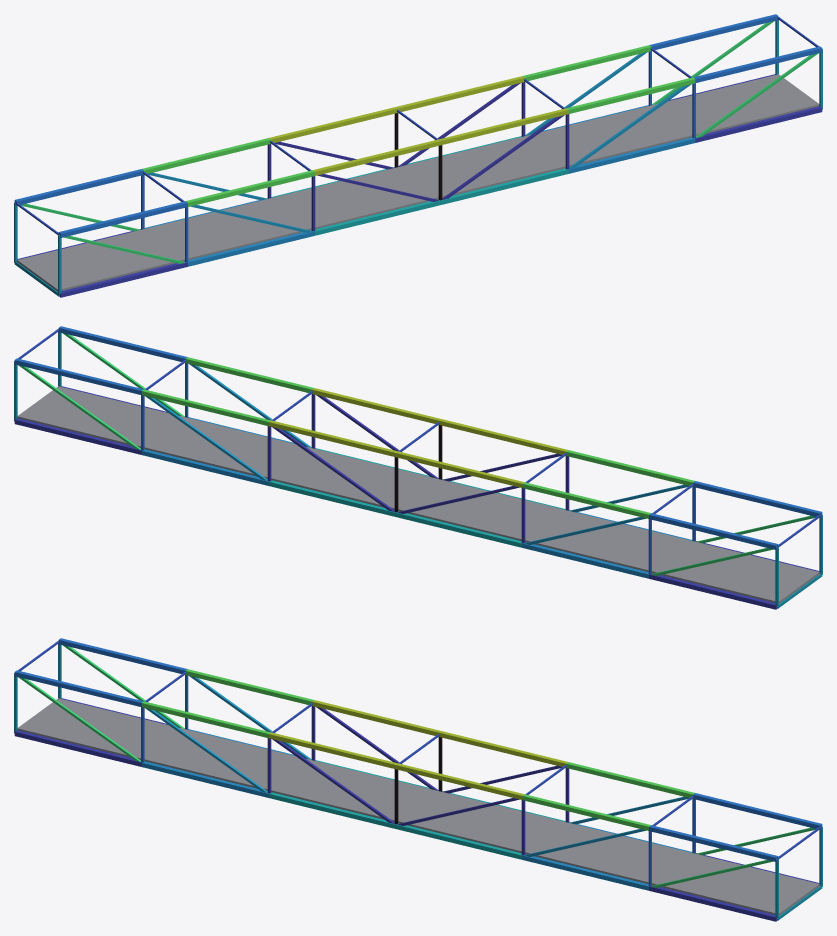
Rendered from 30_2.25_6_HEA240.glb.
3 views of the same model, one above another, from view 1: azimuth 30°, elevation 25°; view 2: azimuth 150°, elevation 25°; view 3: azimuth 330°, elevation 25° (orthographic).
Size of the model in its own units: 30.09 by 2.41 by 3.16.
